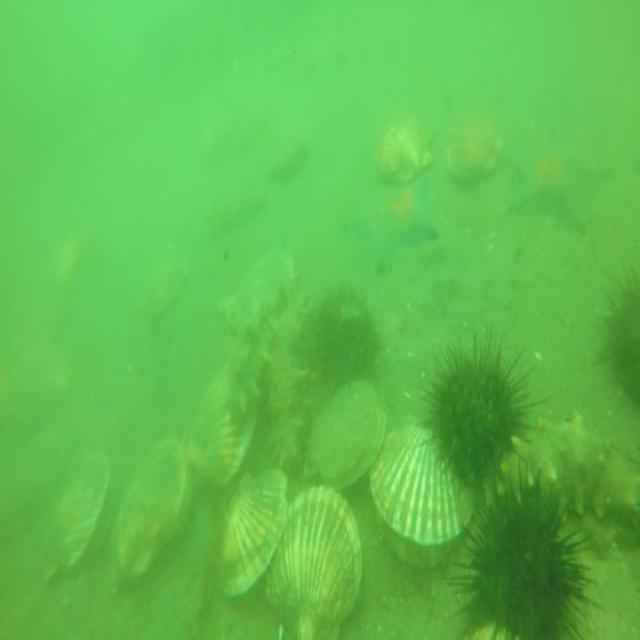echinus: (451, 463, 600, 640), (420, 321, 536, 499), (304, 276, 382, 391), (596, 246, 640, 409)
holothurian: (488, 398, 640, 528), (263, 298, 309, 462), (226, 316, 264, 433), (203, 183, 273, 239)
scallop: (372, 404, 478, 574), (266, 487, 365, 638), (108, 430, 190, 588), (36, 430, 114, 592), (214, 463, 292, 607), (303, 367, 389, 493), (188, 357, 262, 488), (218, 238, 300, 328), (440, 100, 509, 190), (376, 105, 438, 186)
starfish: (505, 130, 615, 237), (337, 176, 441, 276)
